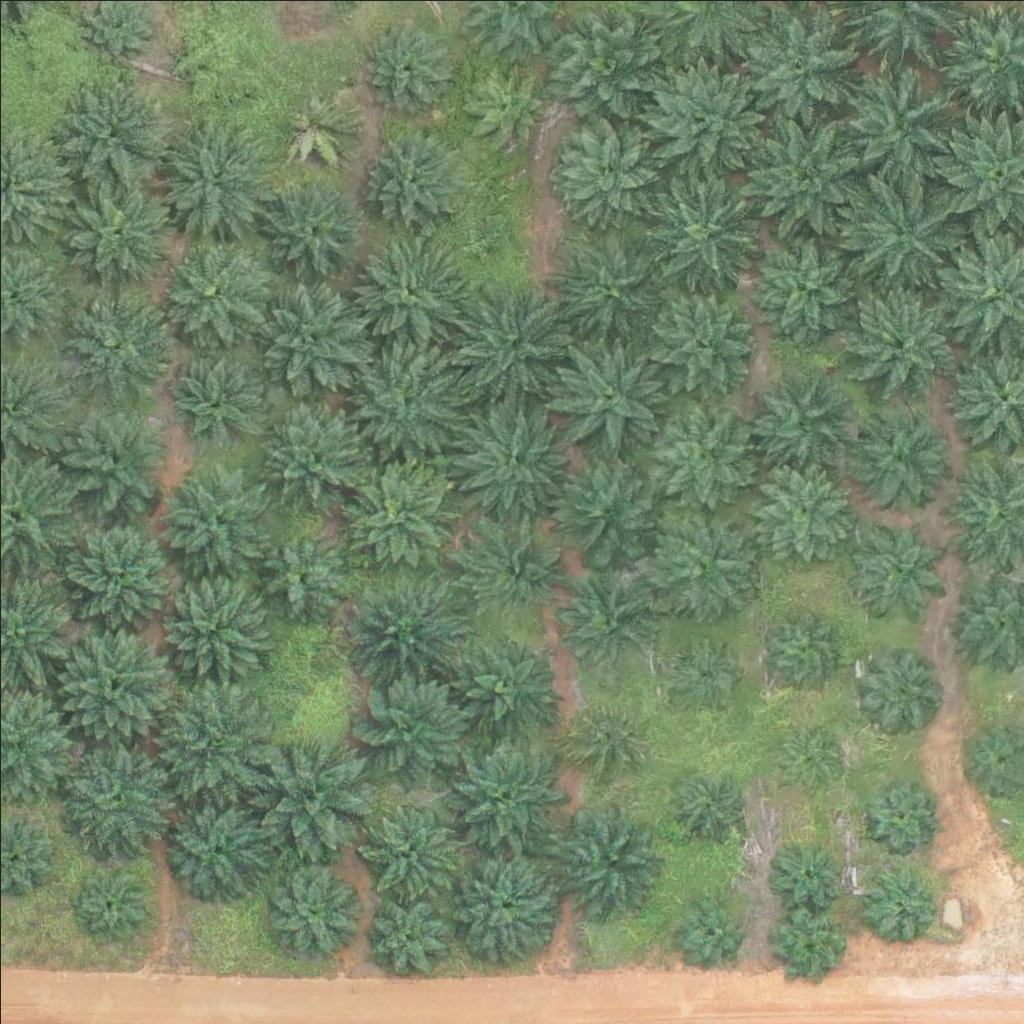Kelapa_Sawit: (549, 796, 674, 922), (547, 330, 672, 456), (442, 735, 567, 861), (347, 665, 472, 791), (250, 732, 375, 858), (147, 673, 272, 799), (53, 508, 178, 634), (549, 108, 674, 234), (544, 6, 669, 132), (645, 168, 770, 294), (648, 59, 773, 185), (747, 225, 872, 351), (742, 115, 867, 241), (742, 5, 867, 131), (835, 275, 960, 401), (838, 167, 963, 293), (840, 66, 965, 192), (153, 567, 266, 681), (61, 282, 174, 396), (551, 452, 664, 565), (455, 398, 568, 511), (155, 463, 268, 576), (162, 345, 275, 458), (61, 397, 174, 510), (61, 174, 174, 287), (57, 73, 170, 186), (353, 238, 466, 351), (357, 125, 470, 238), (459, 286, 572, 399), (59, 629, 171, 743), (646, 512, 758, 625), (644, 397, 756, 510), (446, 626, 558, 739), (459, 510, 571, 623), (347, 573, 459, 686), (342, 454, 454, 567), (349, 344, 461, 457), (261, 399, 373, 512), (64, 745, 176, 858), (157, 234, 269, 347), (158, 120, 270, 233), (257, 283, 369, 396), (555, 233, 667, 346), (646, 281, 758, 394), (457, 857, 557, 958), (359, 17, 459, 118), (454, 57, 554, 158), (846, 519, 946, 619), (844, 404, 944, 504), (753, 458, 853, 558), (754, 370, 854, 470), (358, 801, 458, 901), (168, 795, 268, 895), (273, 80, 361, 169), (853, 645, 941, 733), (758, 602, 846, 690), (256, 532, 344, 620), (266, 180, 354, 268), (562, 579, 649, 667), (365, 892, 452, 980), (271, 866, 358, 954), (72, 861, 147, 937), (568, 699, 643, 774), (860, 866, 935, 941), (860, 774, 935, 849), (776, 908, 851, 983), (772, 830, 847, 905), (674, 893, 749, 968), (671, 763, 746, 838), (665, 633, 740, 708), (779, 723, 841, 786)
